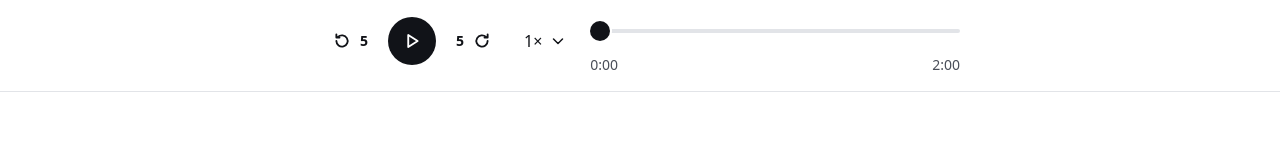
the Practice player › says when it is waiting for the connection
This screenshot has width=1280, height=160.
Step 1. Click the button named "Play" → (412, 41), box [388,17,436,65]
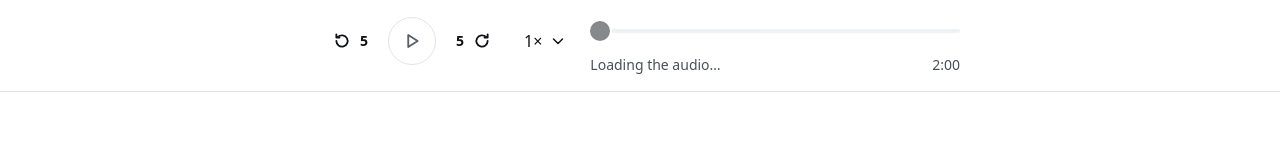
expect the text "Loading the audio…" is shown: met, box [590,55,721,75]
